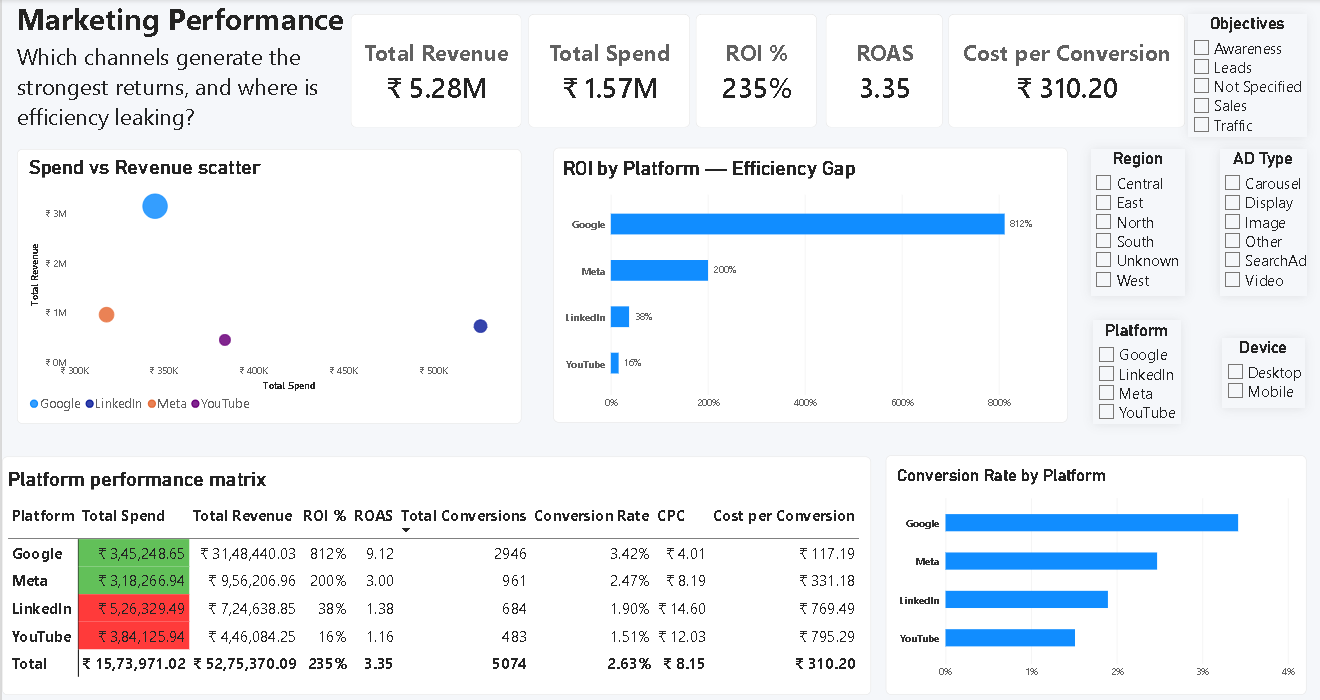

What the dashboard file says about the page in this screenshot:
{"tool":"powerbi","page":{"name":"Marketing Performance","canvas":[1920,1080],"ordinal":0},"visuals":[{"type":"cardVisual","fields":{"Data":["Marketing Data.Total Revenue"]},"box":[506.3,22.6,248.5,165.7],"z":0},{"type":"cardVisual","fields":{"Data":["Marketing Data.Total Spend"]},"box":[763.6,22.6,235.4,165.7],"z":1000},{"type":"cardVisual","fields":{"Data":["Marketing Data.ROI %"]},"box":[1008.6,22.6,176.6,165.7],"z":2000},{"type":"cardVisual","fields":{"Data":["Marketing Data.ROAS"]},"box":[1196.6,21.8,170,165.7],"z":3000},{"type":"cardVisual","fields":{"Data":["Marketing Data.Cost per Conversion"]},"box":[1374.5,21.8,344.4,165.7],"z":4000},{"type":"scatterChart","title":"Spend vs Revenue scatter","fields":{"Series":["Marketing Data.Platform"],"Size":["Marketing Data.Total Conversions"],"X":["Marketing Data.Total Spend"],"Y":["Marketing Data.Total Revenue"]},"box":[22.6,218.2,732.4,398.9],"z":5000},{"type":"clusteredBarChart","title":"ROI by Platform — Efficiency Gap","fields":{"Category":["Marketing Data.Platform"],"Y":["Marketing Data.ROI %"]},"box":[800.7,216.1,747.2,399.3],"z":6000},{"type":"pivotTable","title":"Platform performance matrix","fields":{"Rows":["Marketing Data.Platform"],"Values":["Marketing Data.Total Spend","Marketing Data.Total Revenue","Marketing Data.ROI %","Marketing Data.ROAS","Marketing Data.Total Conversions","Marketing Data.Conversion Rate","Marketing Data.CPC","Marketing Data.Cost per Conversion"]},"box":[0,664,1262.1,346.6],"z":8000},{"type":"slicer","title":"Platform","fields":{"Values":["Marketing Data.Platform"]},"box":[1585.1,466.6,127.1,150.7],"z":9000},{"type":"slicer","title":"Region","fields":{"Values":["Marketing Data.Region"]},"box":[1580.8,218.2,137.3,213.6],"z":10000},{"type":"slicer","title":"Objectives","fields":{"Values":["Marketing Data.Objective"]},"box":[1723.1,21.8,172.2,178.7],"z":11000},{"type":"slicer","title":"AD Type","fields":{"Values":["Marketing Data.ad_type"]},"box":[1768.1,218.2,126.4,213.6],"z":12000},{"type":"slicer","title":"Device","fields":{"Values":["Marketing Data.Device"]},"box":[1772.2,492.1,119.9,102.5],"z":13000},{"type":"clusteredBarChart","fields":{"Category":["Marketing Data.Platform"],"Y":["Marketing Data.Conversion Rate"]},"box":[1283.3,662.7,611.4,347.8],"z":13001},{"type":"textbox","box":[22.6,0,483.7,61.7],"z":13002},{"type":"textbox","box":[22.6,61.7,456.9,133.8],"z":13003}]}

Visuals, with their boxes on the page's 1920x1080 design canvas (x1, y1, x2, y2). These are canvas units, not pixel positions in the 1320x700 screenshot, which may show the page scaled, cropped or inside an application window:
cardVisual - Marketing Data.Total Revenue: 506,23,755,188
cardVisual - Marketing Data.Total Spend: 764,23,999,188
cardVisual - Marketing Data.ROI %: 1009,23,1185,188
cardVisual - Marketing Data.ROAS: 1197,22,1367,188
cardVisual - Marketing Data.Cost per Conversion: 1374,22,1719,188
"Spend vs Revenue scatter" scatterChart: 23,218,755,617
"ROI by Platform — Efficiency Gap" clusteredBarChart: 801,216,1548,615
"Platform performance matrix" pivotTable: 0,664,1262,1011
"Platform" slicer: 1585,467,1712,617
"Region" slicer: 1581,218,1718,432
"Objectives" slicer: 1723,22,1895,200
"AD Type" slicer: 1768,218,1894,432
"Device" slicer: 1772,492,1892,595
clusteredBarChart - Marketing Data.Platform x Marketing Data.Conversion Rate: 1283,663,1895,1010
textbox: 23,0,506,62
textbox: 23,62,480,196
